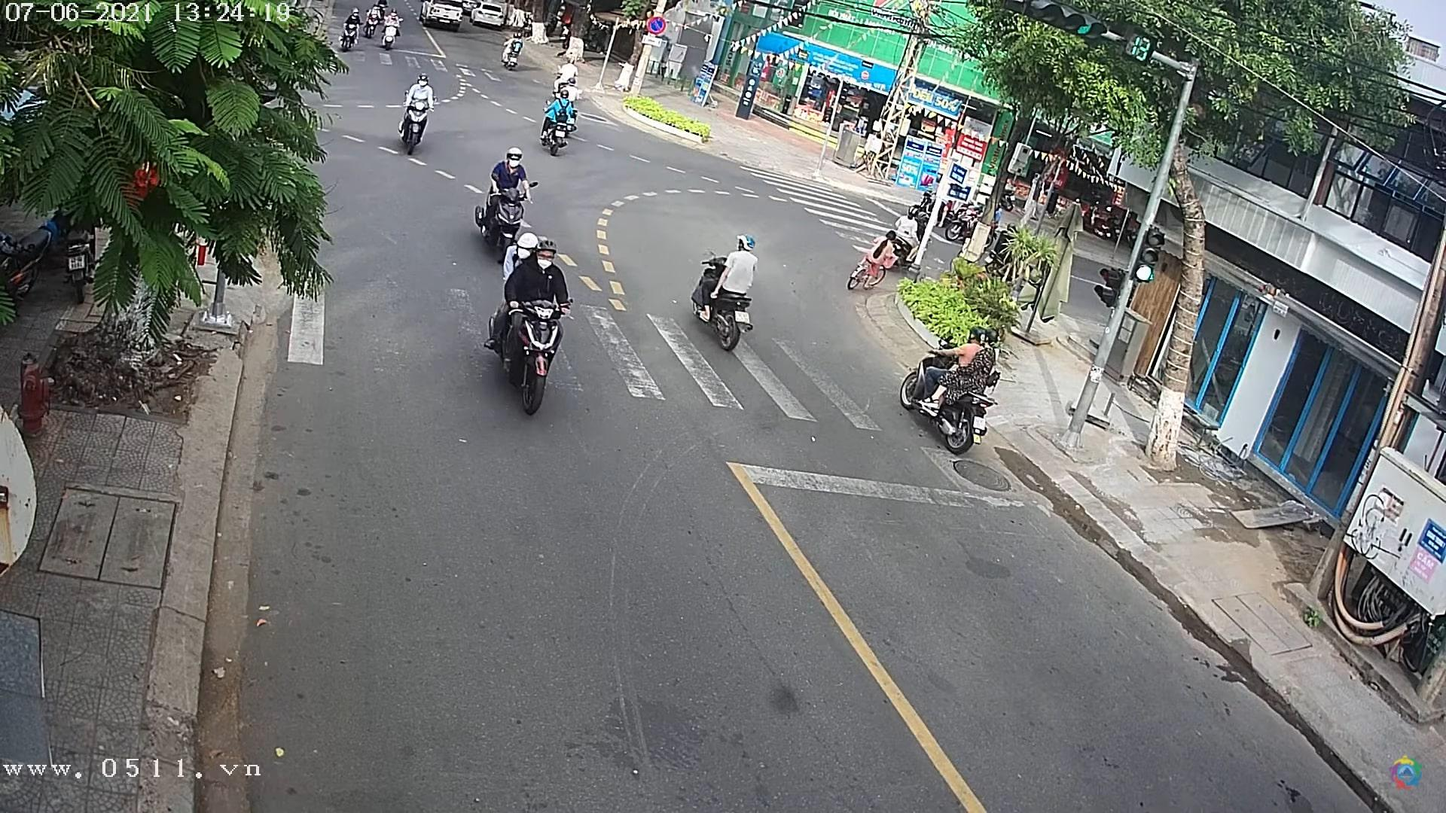car: (468, 2, 514, 32), (421, 1, 464, 29)
motorbike: (488, 262, 576, 416), (469, 159, 536, 252), (398, 102, 434, 154)
